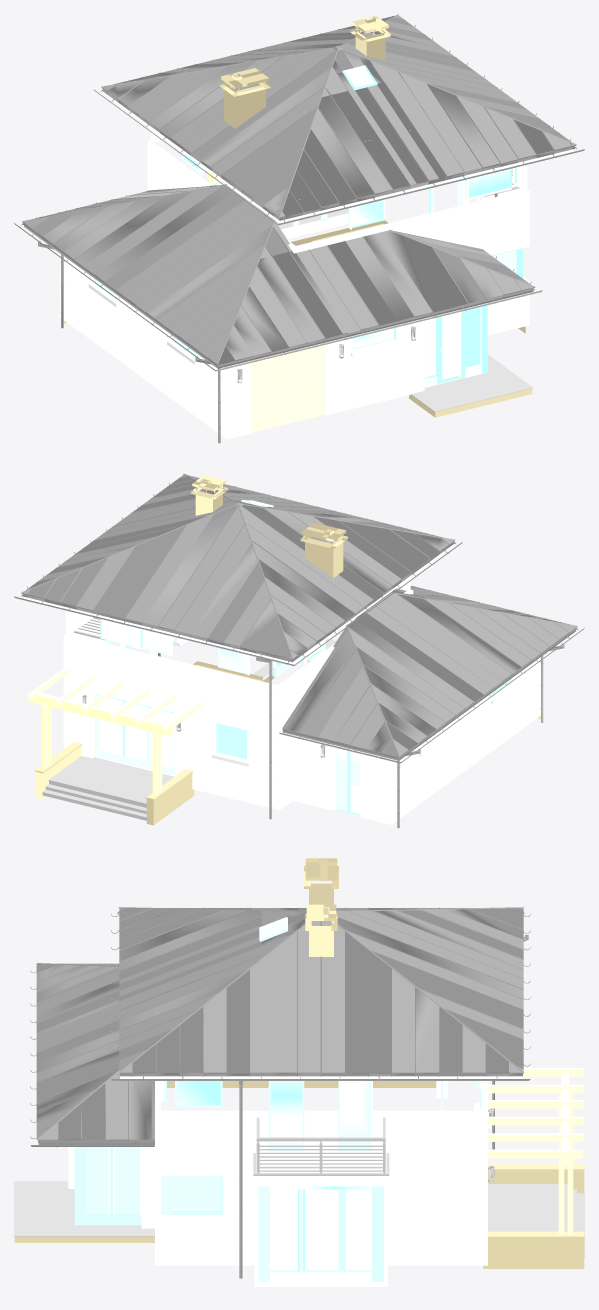
File: Bambo_House.gltf
3 renders of one model, top to bottom at view 1: azimuth 30°, elevation 25°; view 2: azimuth 150°, elevation 25°; view 3: azimuth 270°, elevation 25°, orthographic. The views are drawn at different scales.
Parts seen in each view (by area): view 1: roof, body_house, windows, garage, chimneys, stairs, gutters, door, ridge, fundametnts, parapet, window_roof; view 2: roof, body_house, windows, stairs, boards, door, chimneys, gutters, wall_barrels, ridge, parapet; view 3: roof, body_house, windows, stairs, boards, wall_barrels, barrels, chimneys, gutters, fundametnts, ridge, parapet.
Boxes of the visible parts, x1,y1,x2,y2 form: roof: (22, 15, 576, 368); body_house: (60, 92, 573, 439); windows: (94, 152, 522, 387); garage: (252, 344, 325, 432); chimneys: (219, 16, 390, 128); stairs: (257, 207, 533, 411); gutters: (14, 25, 584, 443); door: (264, 212, 461, 383); ridge: (22, 14, 576, 364); fundametnts: (63, 220, 532, 417); parapet: (88, 276, 532, 364); window_roof: (342, 65, 377, 90); roof: (21, 474, 576, 760); body_house: (24, 545, 543, 824); windows: (100, 618, 512, 815); stairs: (42, 639, 336, 820); boards: (27, 667, 202, 795); door: (95, 628, 342, 776); chimneys: (190, 475, 347, 577); gutters: (14, 482, 584, 828); wall_barrels: (35, 742, 194, 825); ridge: (21, 473, 577, 756); parapet: (173, 637, 518, 766); roof: (36, 907, 523, 1144); body_house: (68, 1076, 522, 1286); windows: (74, 1081, 481, 1281); stairs: (14, 1181, 584, 1257); boards: (488, 1068, 583, 1235); wall_barrels: (483, 1164, 584, 1268); barrels: (253, 1117, 389, 1175); chimneys: (304, 858, 338, 956); gutters: (30, 911, 530, 1278); fundametnts: (14, 1081, 436, 1242); ridge: (36, 907, 524, 1139); parapet: (153, 1102, 490, 1221).
Size of the model in its own units: 13.64 by 9 by 14.54.
